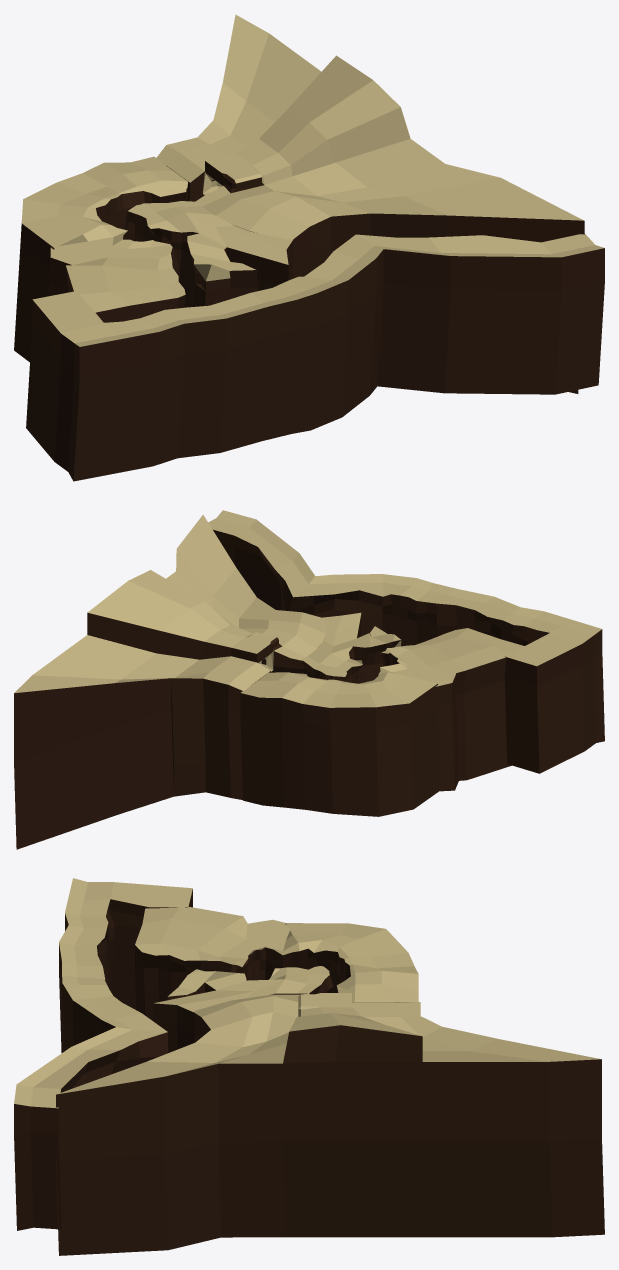
The model's file is LVL1_Terrain.glb.
3 views of the same model, one above another, from view 1: azimuth 30°, elevation 25°; view 2: azimuth 150°, elevation 25°; view 3: azimuth 270°, elevation 25° (orthographic). The views are drawn at different scales.
Visible parts, largest first — view 1: Cube.001; view 2: Cube.001; view 3: Cube.001.
Boxes of the visible parts, <box> form: Cube.001: <box>14,14,604,481</box>; Cube.001: <box>14,510,604,849</box>; Cube.001: <box>14,878,604,1255</box>.
Bounding box in the file's own units: 27.81 × 11.89 × 30.1.
